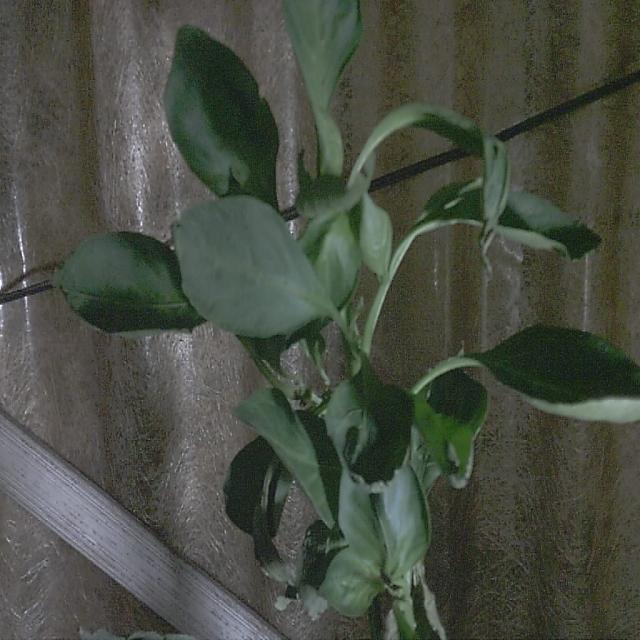Leaf: (174, 191, 328, 342), (161, 22, 278, 211), (51, 227, 205, 340), (489, 322, 640, 426), (326, 372, 412, 488)
